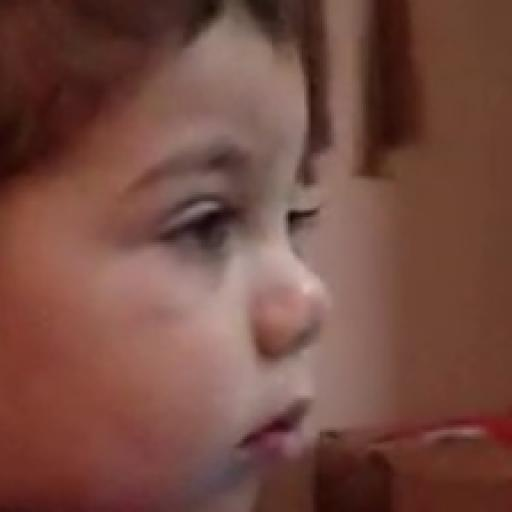Autism: (31, 0, 384, 498)
